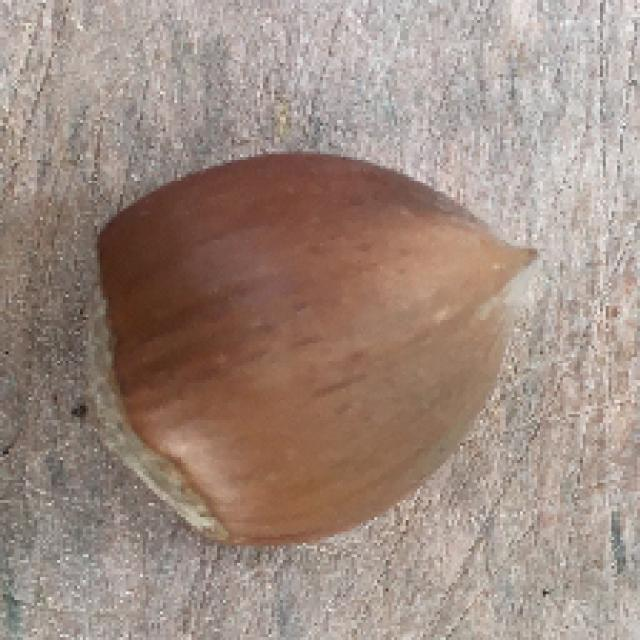qualityHazelnut: (70, 150, 542, 545)
